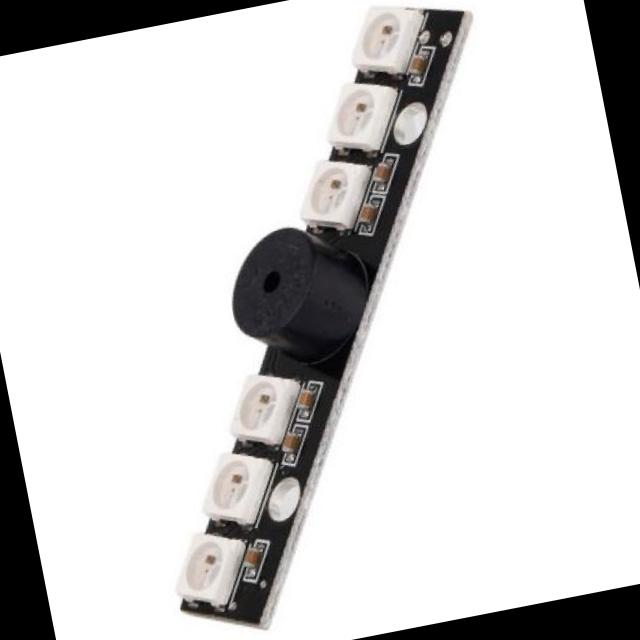LED: (168, 533, 248, 608), (212, 374, 298, 442), (313, 79, 398, 147), (186, 454, 275, 518), (346, 0, 423, 70), (293, 154, 368, 224)
capacitor: (401, 42, 441, 86), (272, 428, 312, 460), (348, 200, 382, 232), (366, 158, 400, 190), (234, 544, 270, 570), (290, 388, 320, 414)
